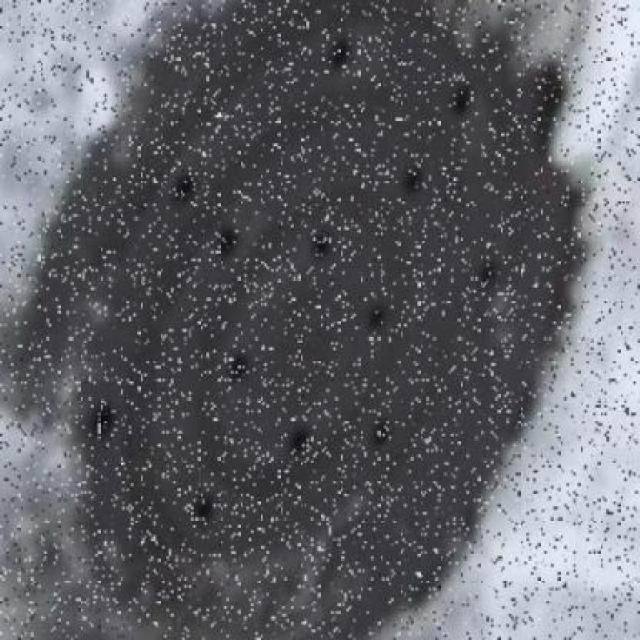Manhole: (12, 4, 603, 622)
